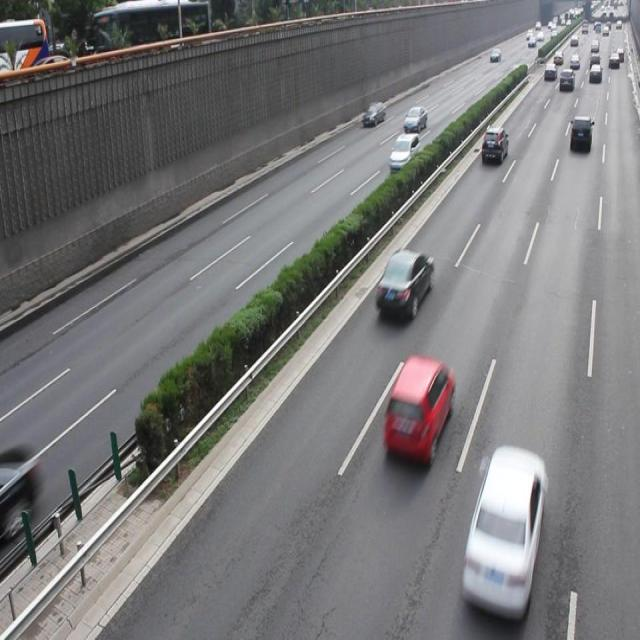car: (461, 441, 547, 617), (382, 354, 454, 462), (374, 248, 431, 320), (1, 444, 36, 534), (389, 133, 420, 172), (479, 124, 508, 163)
